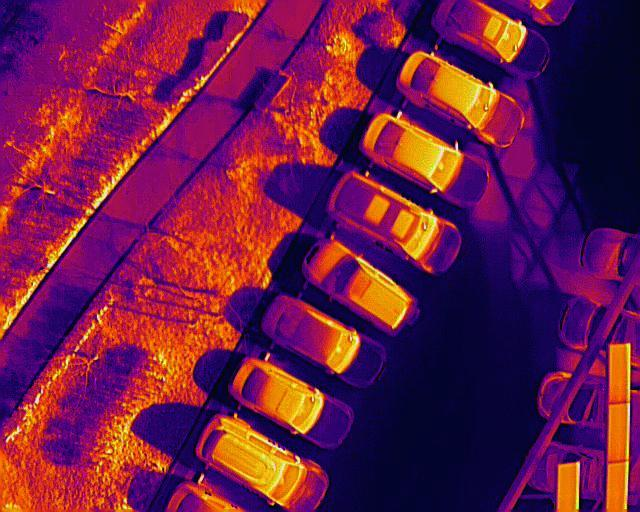No-Anomaly: (608, 342, 633, 403), (608, 403, 631, 462), (607, 462, 631, 512)
